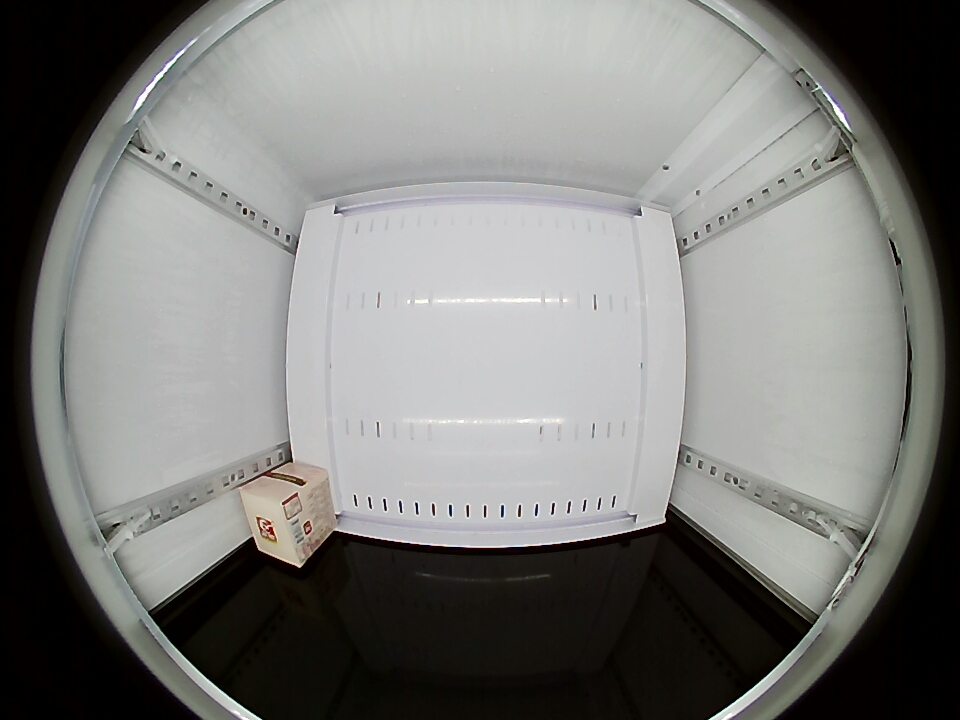rousongbing: (241, 475, 319, 568)
